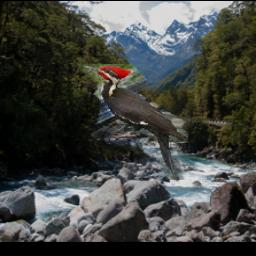Woodpecker: (78, 65, 188, 181)
